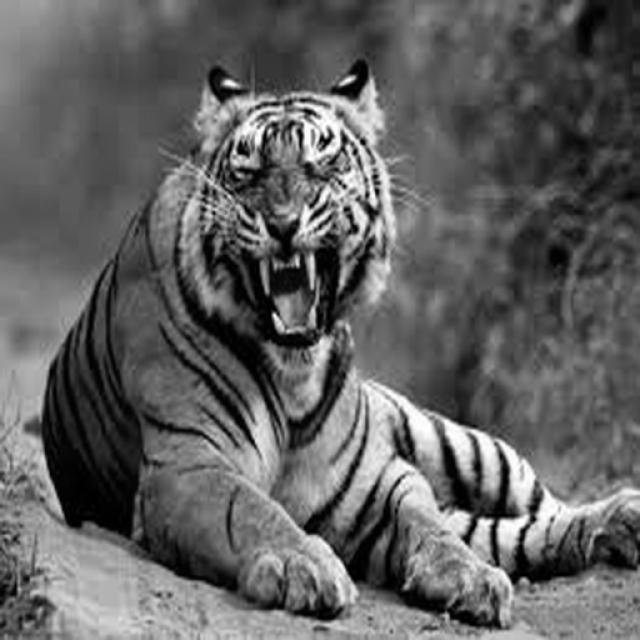Tiger: (37, 55, 638, 630)
